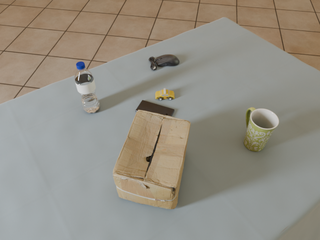bottle: (75, 62, 100, 113)
box: (113, 110, 190, 209)
cup: (244, 107, 279, 151)
mouse: (149, 55, 179, 70)
phone: (136, 100, 174, 116)
toy_car: (155, 88, 174, 100)
